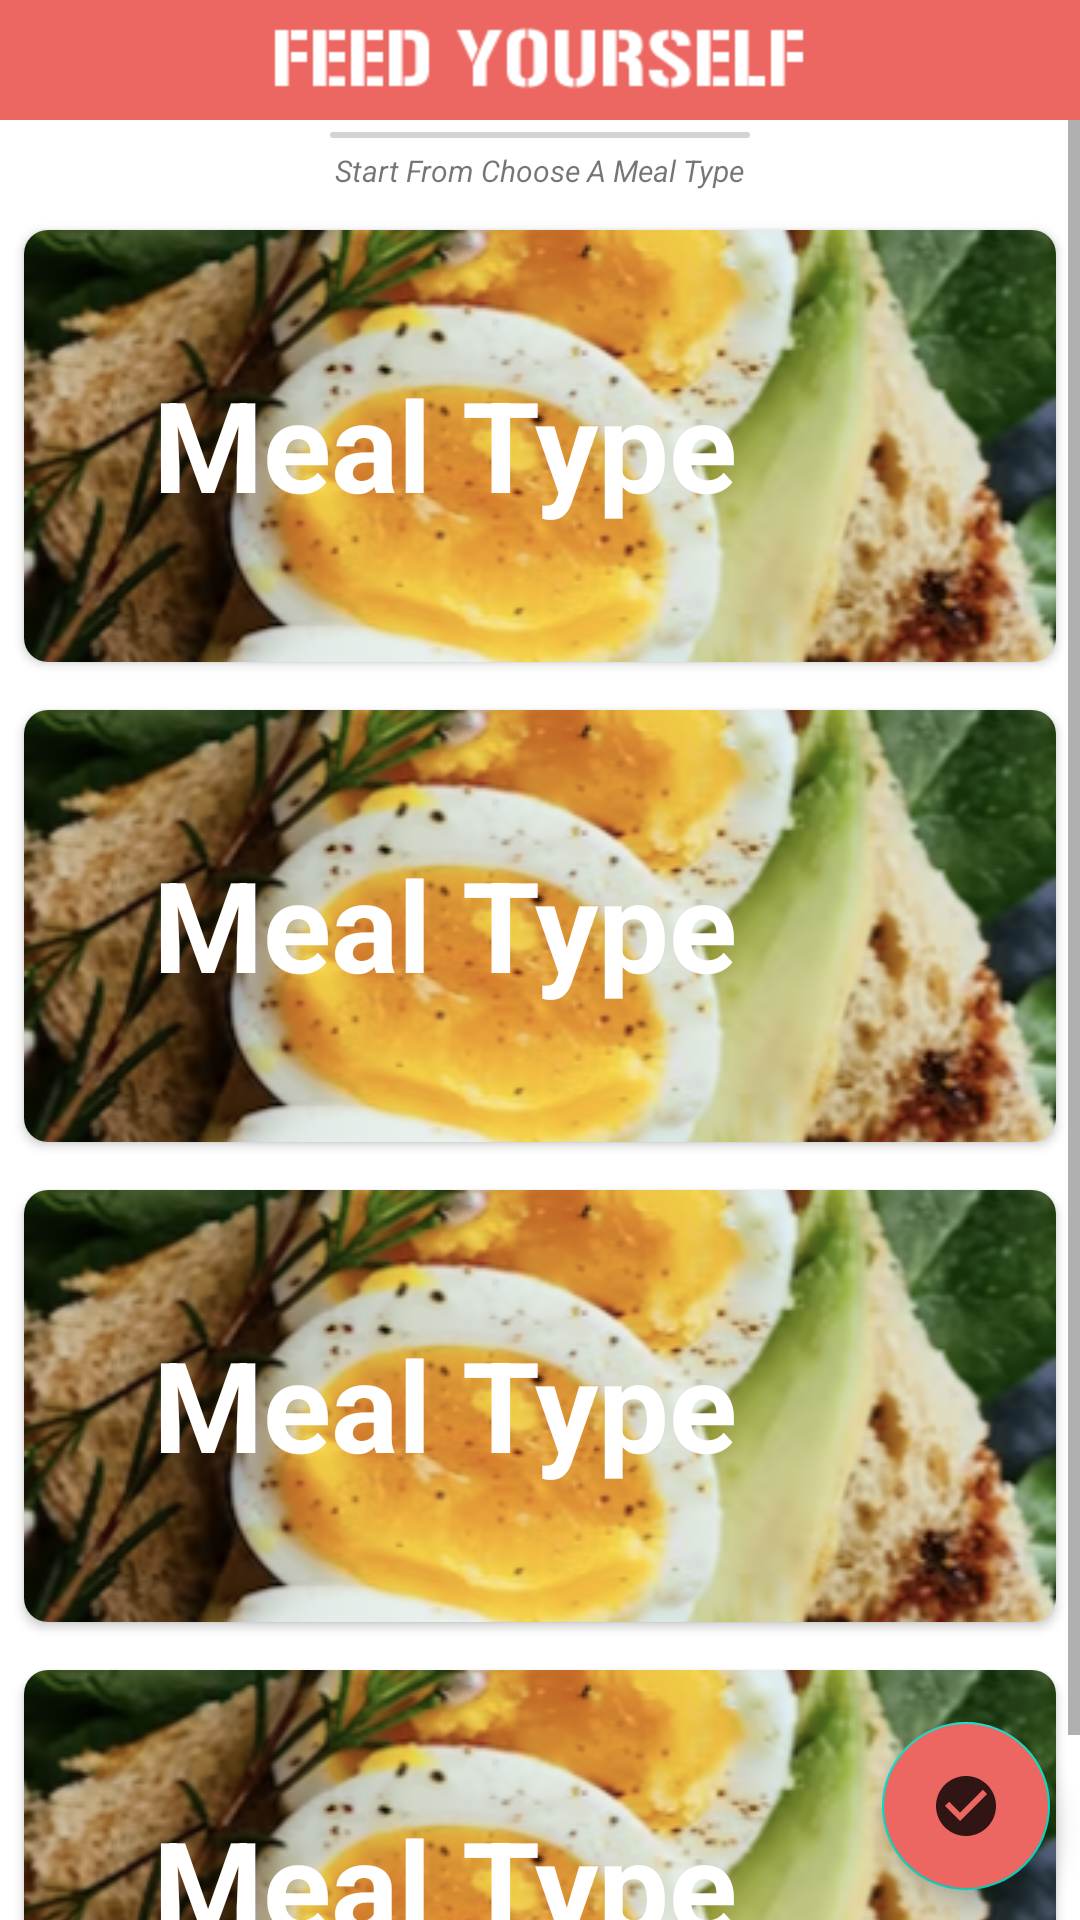

Named icons in this screenshot (1080*1920) and their centers, (x,y):
confirm: (966,1806)
